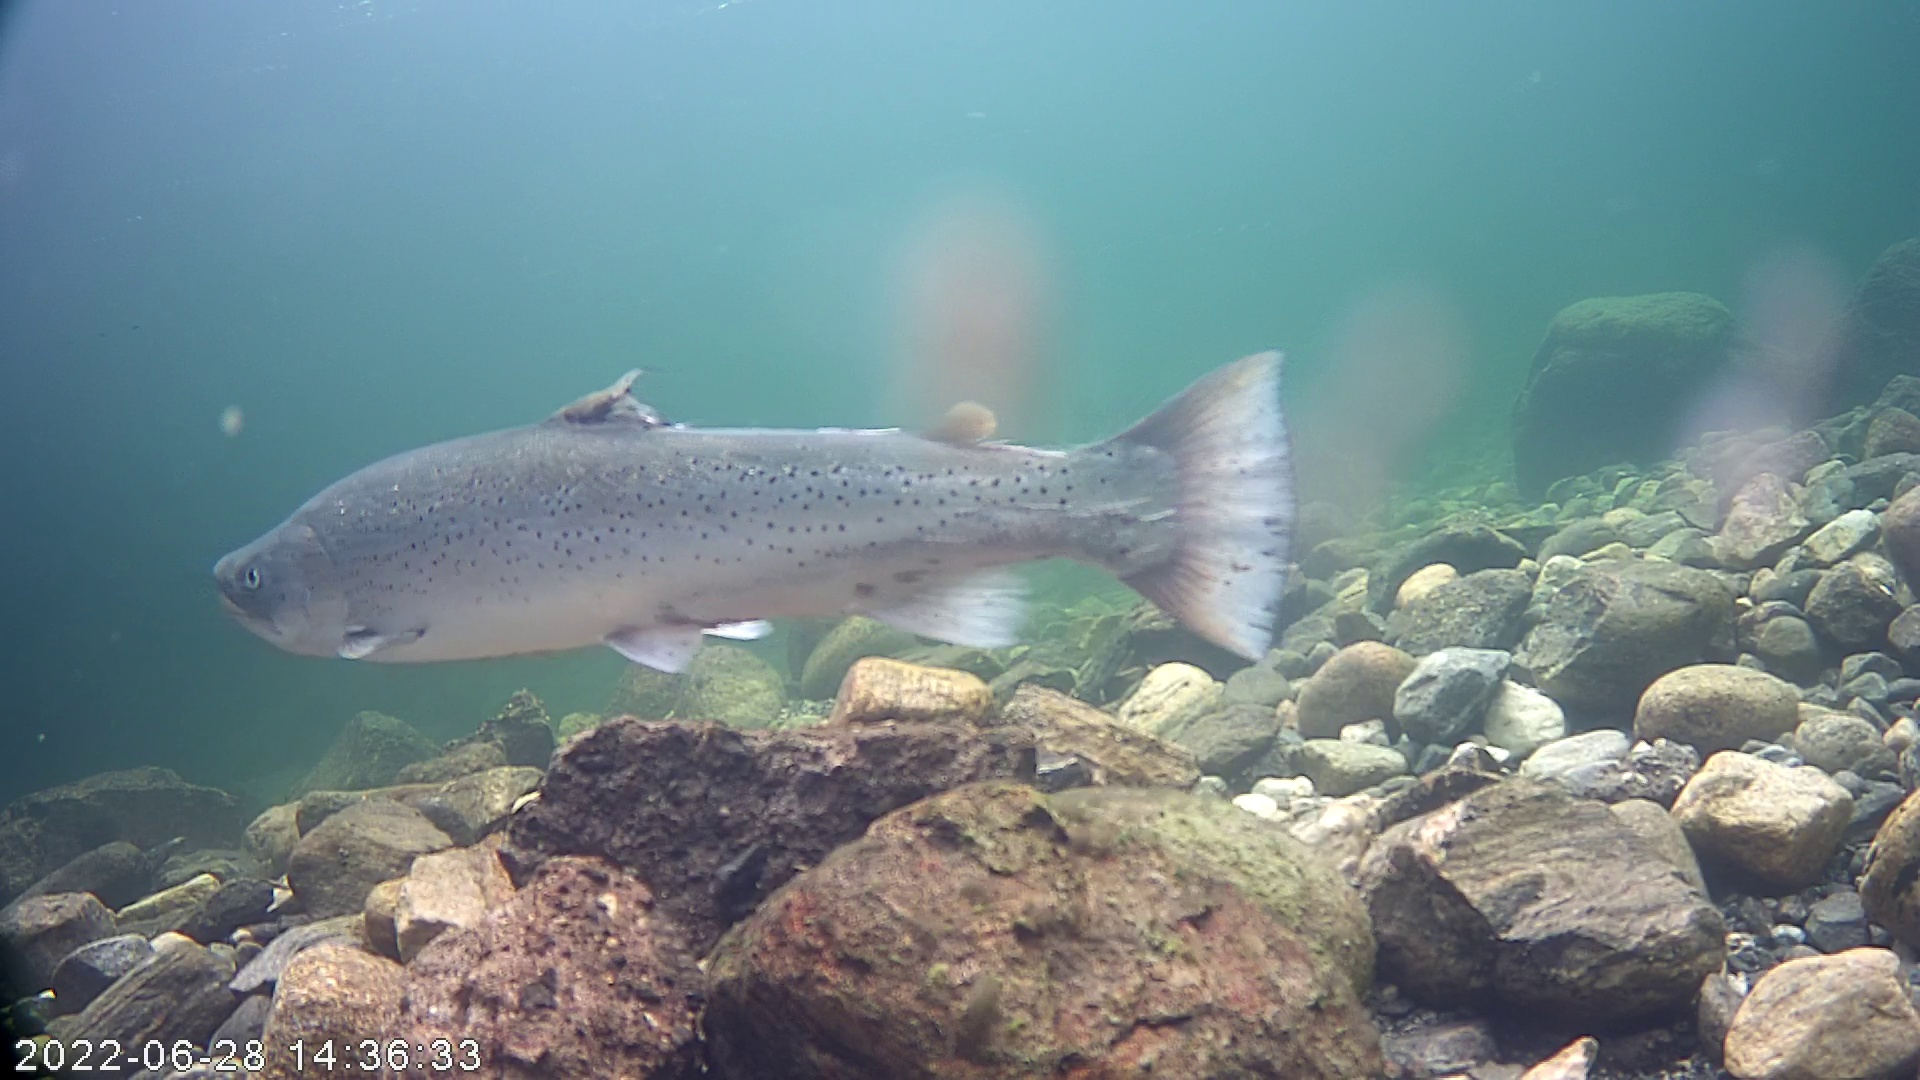salmon: (227, 285, 1325, 724)
